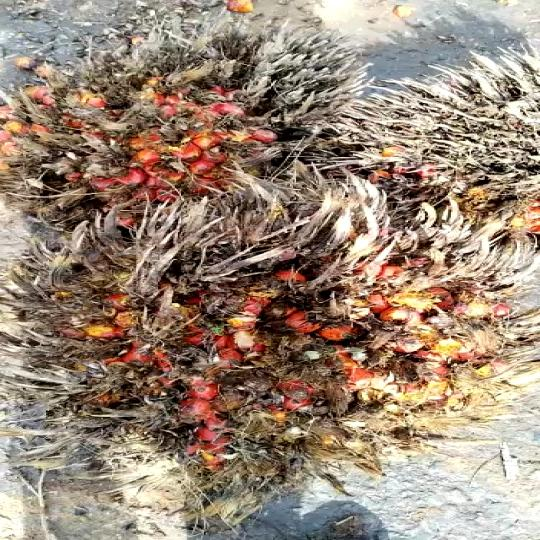terlalu masak: (0, 169, 540, 495), (0, 26, 382, 223)
